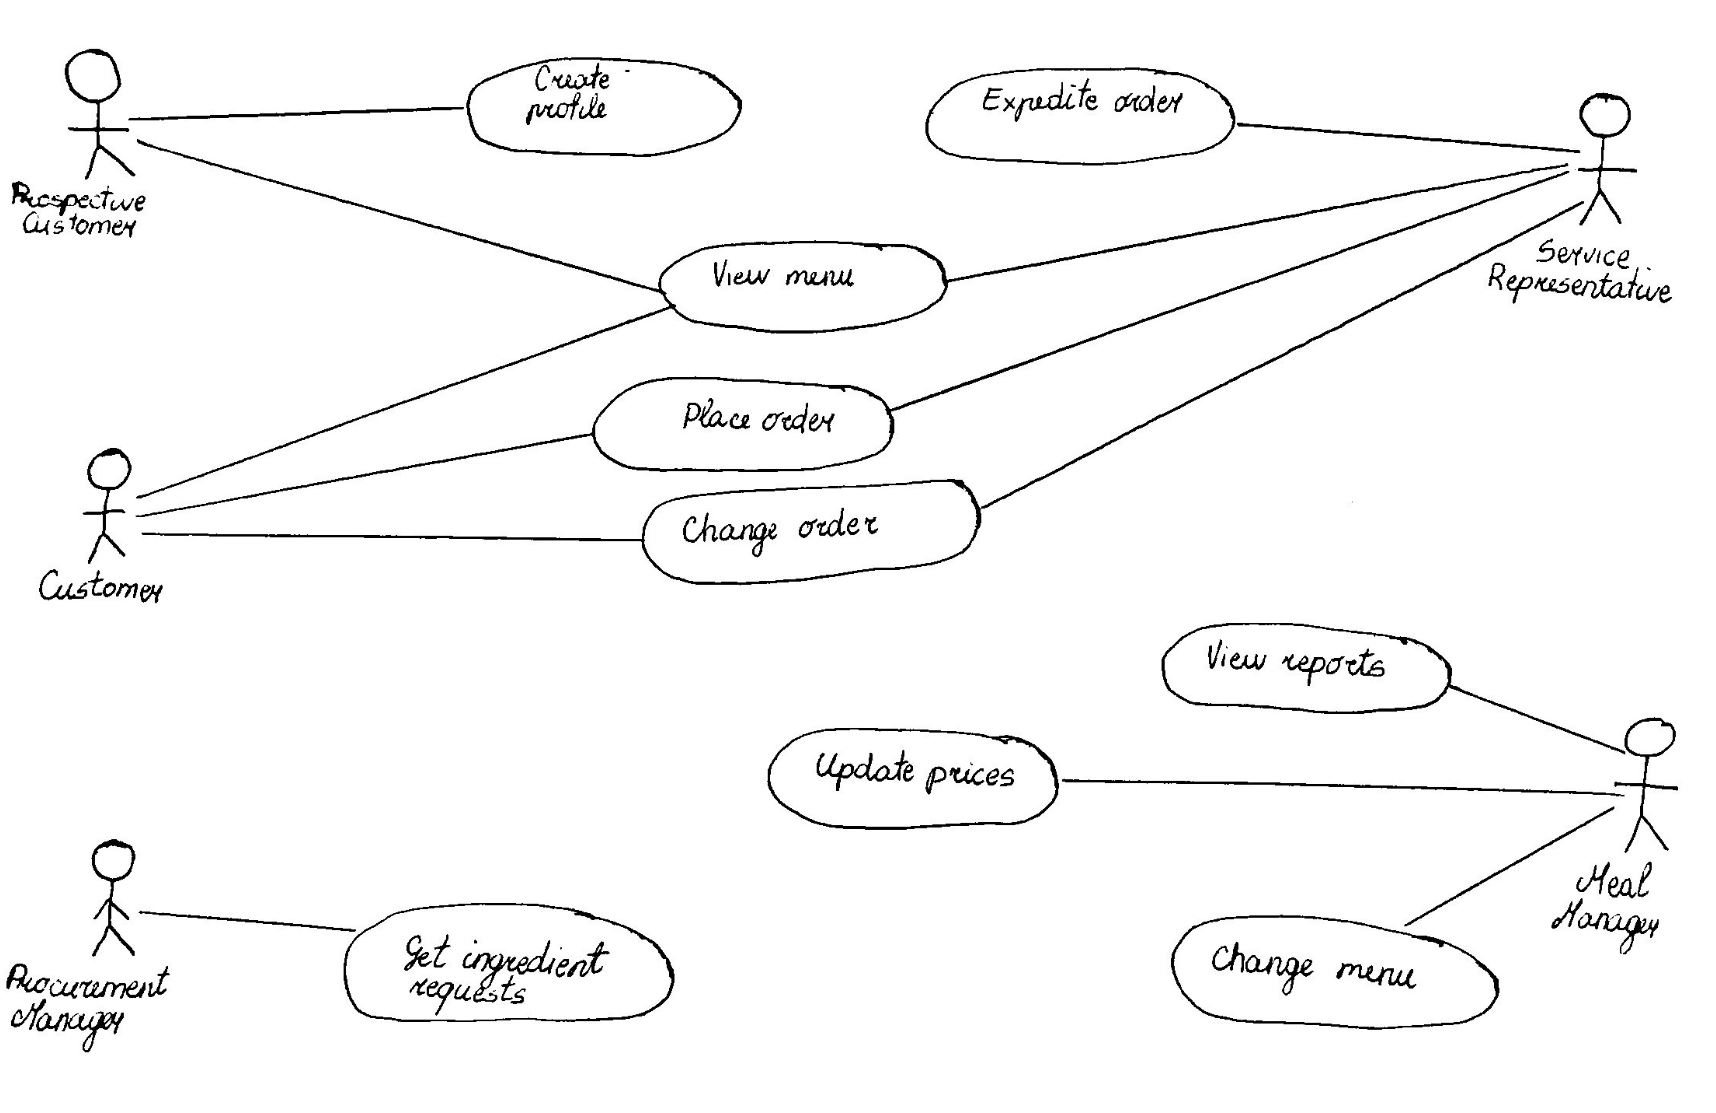actor: (60, 43, 138, 184), (70, 446, 146, 569), (1575, 90, 1635, 238), (1613, 720, 1673, 859), (80, 838, 138, 959)
association: (982, 199, 1585, 510), (893, 171, 1568, 414), (138, 303, 669, 501), (135, 135, 659, 293), (944, 160, 1572, 285), (139, 433, 590, 519), (1062, 749, 1608, 810), (1410, 808, 1618, 923), (143, 520, 642, 558), (1237, 118, 1577, 155), (1452, 680, 1618, 752), (128, 98, 462, 130), (138, 903, 350, 945)
text: (386, 919, 635, 1013), (1206, 930, 1441, 1003), (3, 957, 176, 1050), (799, 740, 1034, 807), (1488, 238, 1688, 314), (1547, 854, 1668, 957), (699, 251, 876, 313), (33, 562, 190, 627), (1194, 634, 1405, 683), (679, 506, 901, 553), (977, 83, 1193, 128), (673, 391, 855, 443), (5, 178, 151, 241), (517, 63, 618, 128)
use_case: (341, 900, 677, 1028), (1167, 909, 1501, 1035), (640, 476, 983, 588), (918, 64, 1241, 169), (765, 727, 1058, 835), (590, 373, 896, 476), (1159, 615, 1453, 720), (463, 55, 745, 159), (655, 239, 953, 336)
